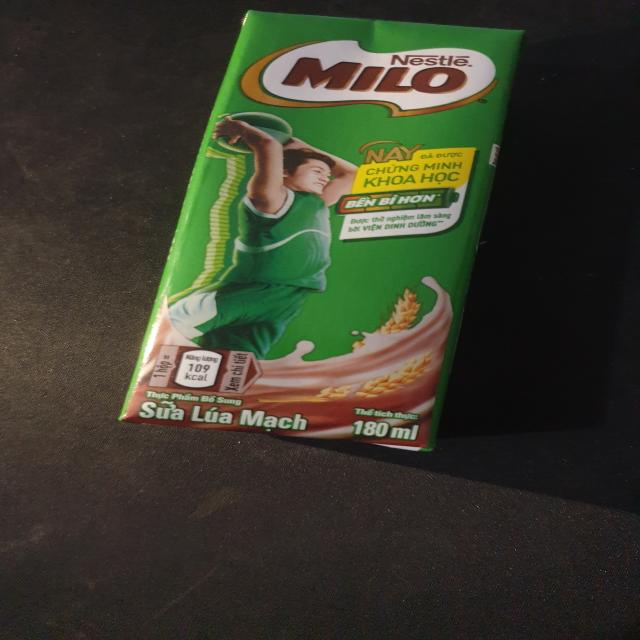Milo: (119, 14, 526, 460)
